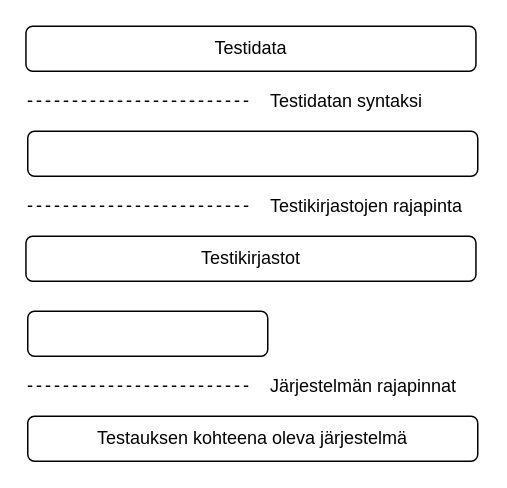
This 507x488 diagram has some shape labels left out. The shapes that lost their labels are listed below. From the top down, each one's centre as x and y in pixels, then its label:
(x=252, y=153): Robot Framework
(x=147, y=333): Testityökalut
